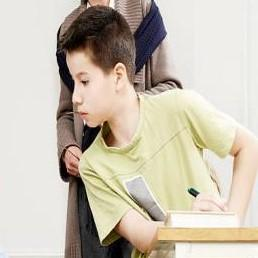cheating: (63, 5, 258, 258)
